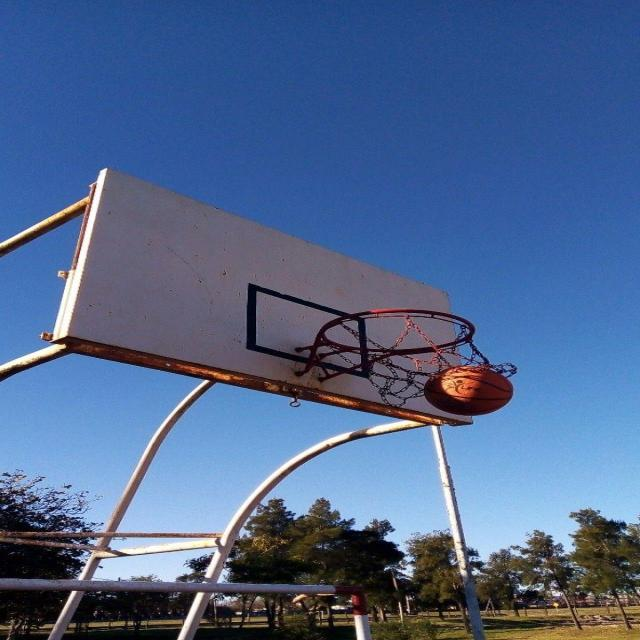hoop: (273, 315, 564, 420)
